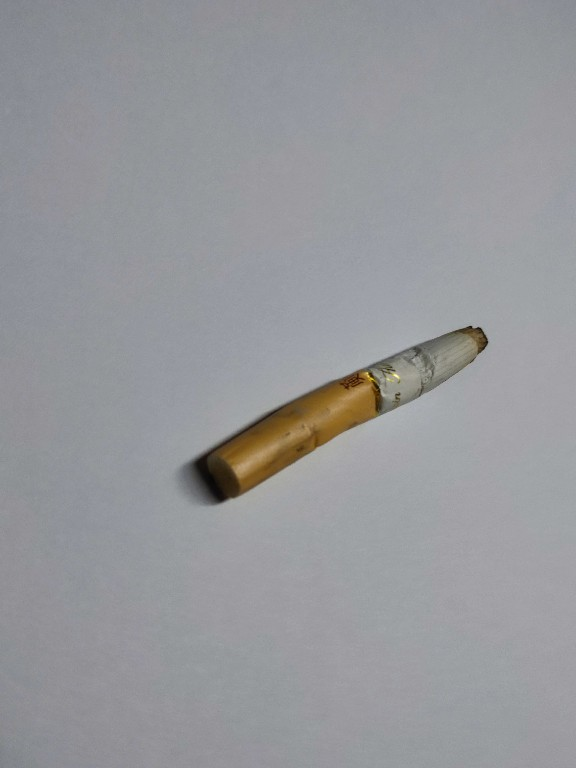cigarette: (202, 322, 492, 502)
